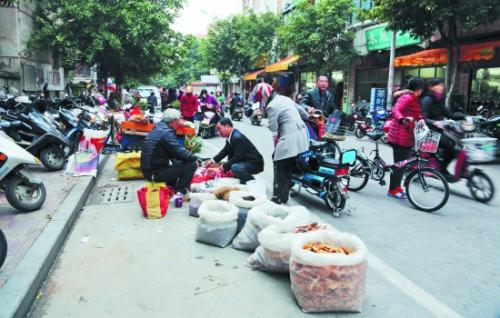vendors: (185, 155, 368, 313), (75, 107, 196, 153)
